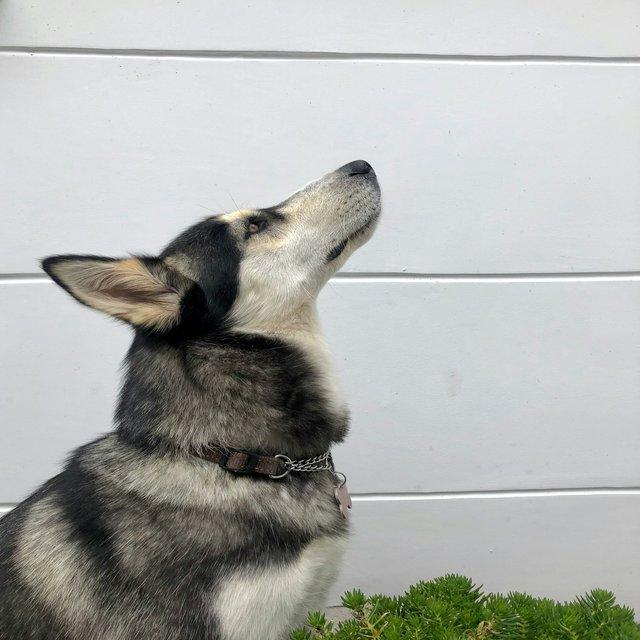husky: (0, 158, 382, 638)
